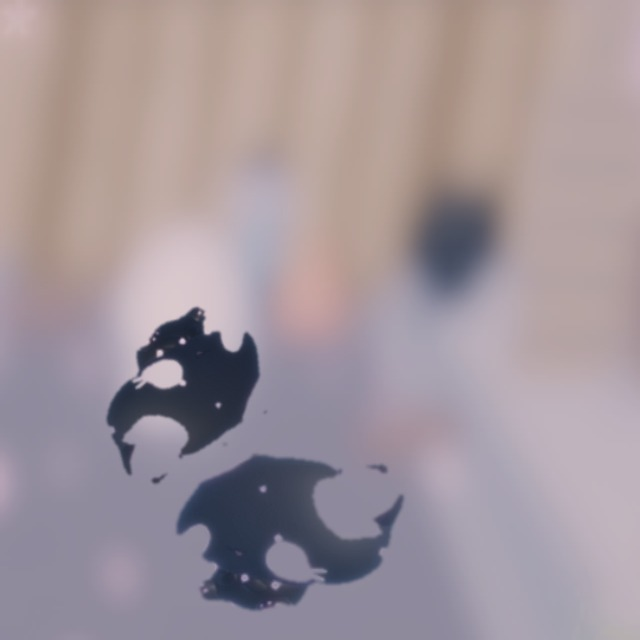urso_preto: (38, 254, 327, 535), (140, 424, 436, 632)
